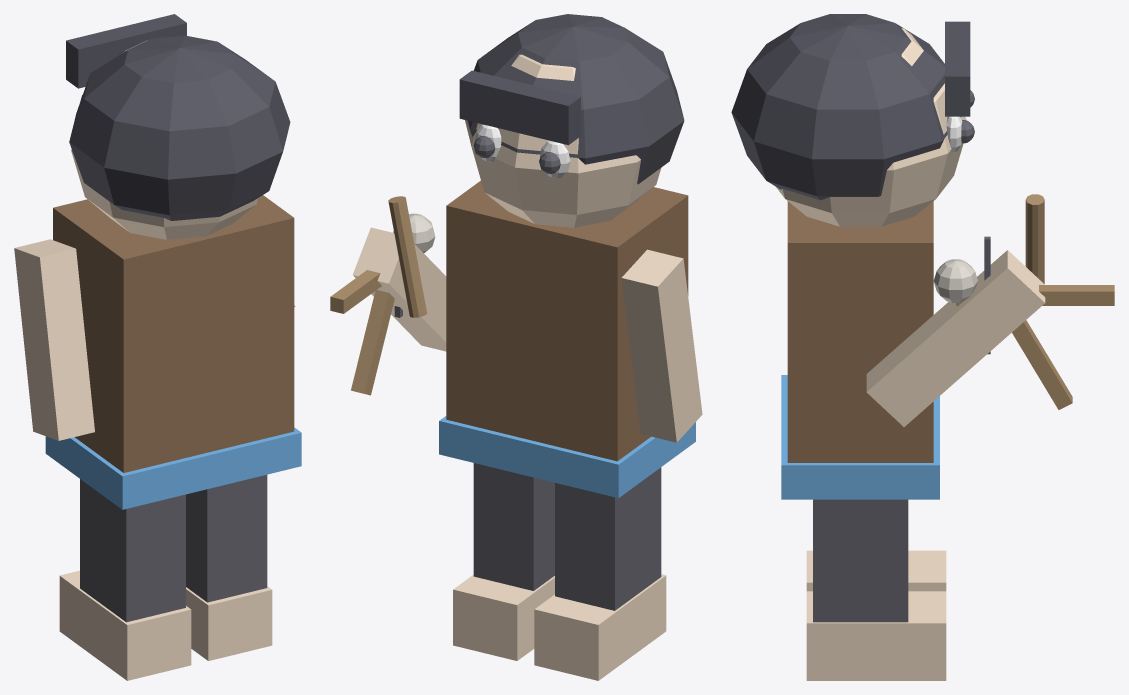
File: rascals.glb
3 renders of one model, left to right at view 1: azimuth 30°, elevation 25°; view 2: azimuth 150°, elevation 25°; view 3: azimuth 270°, elevation 25°, orthographic. The views are drawn at different scales.
Parts seen in each view (by area): view 1: rascals; view 2: rascals; view 3: rascals.
Part boxes in pixels (x1,y1,x2,y2): rascals: (14,14,301,680); rascals: (330,14,702,680); rascals: (731,14,1114,680).
Size of the model in its own units: 0.936 by 2.15 by 1.21.
